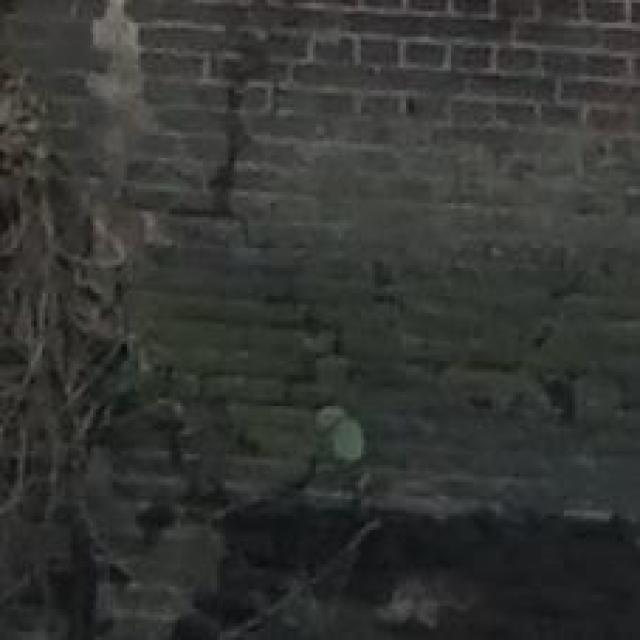Crack: (140, 51, 354, 413)
